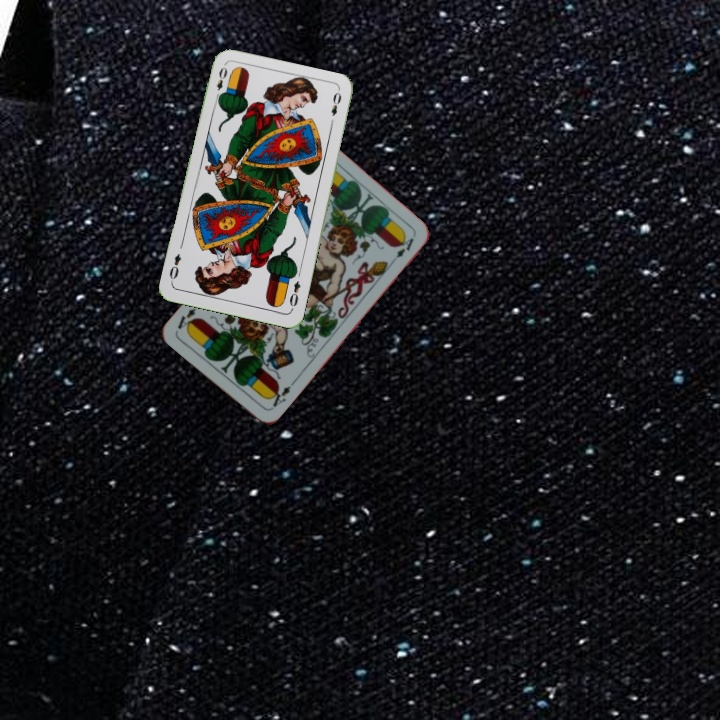EA: (265, 382, 293, 412)
EO: (211, 63, 230, 102), (285, 277, 303, 313)
